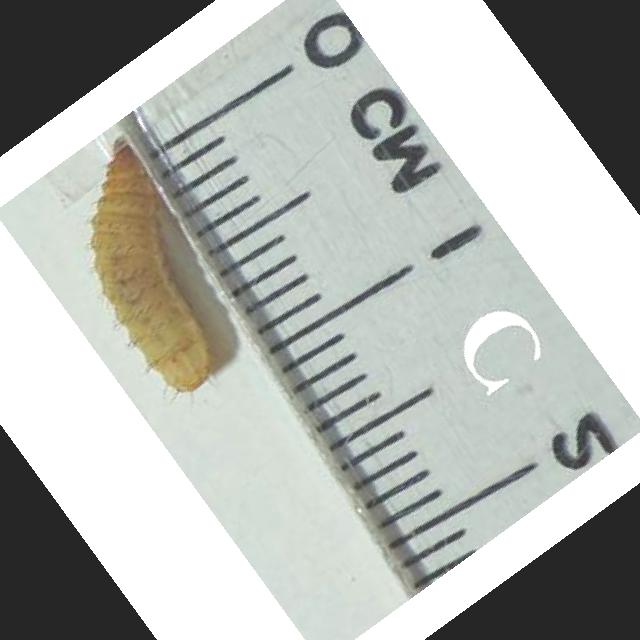Maggot: (91, 142, 212, 389)
